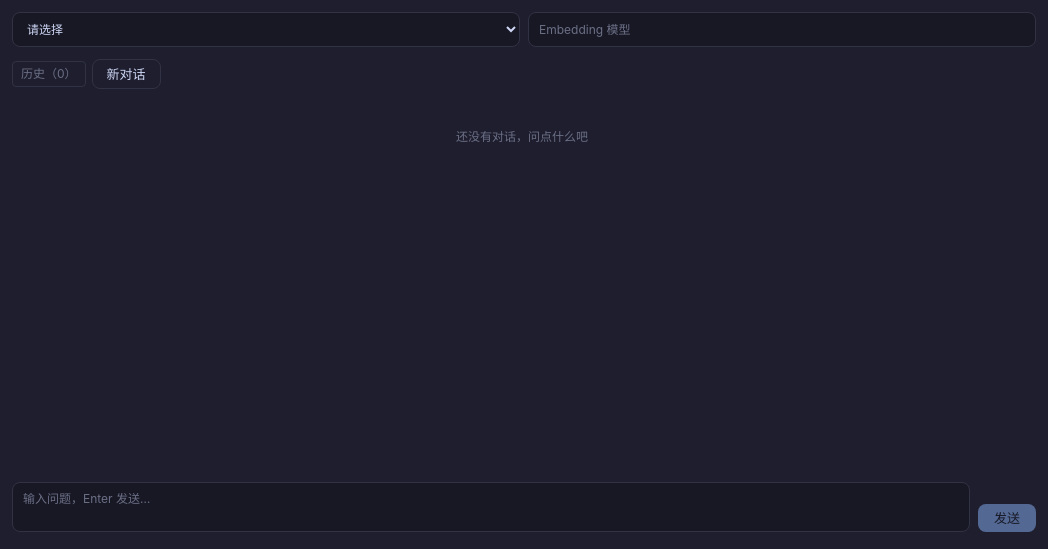
it: §332 A6① 问答屏历史搜索：前一个词那一发的迟到结果不许换掉当前结果 › 敲「甲」再敲「甲乙」⇒「甲」迟到了也不许换掉「甲乙」的清单
Click the button "历史（0）": (49, 74) [12,61,86,87]
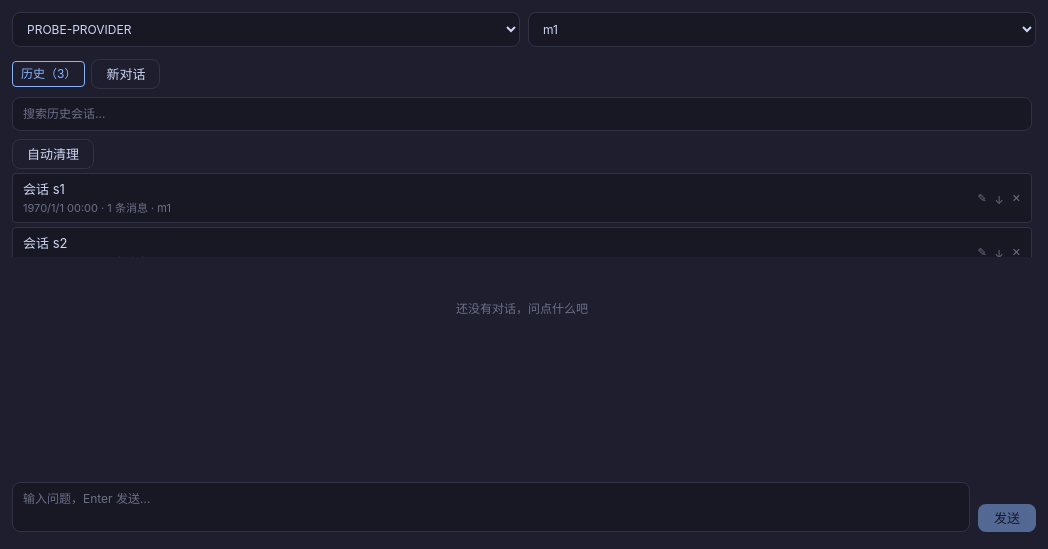
Now the field with placeholder "搜索历史会话…" is shown
In the field with placeholder "搜索历史会话…": (522, 114) [12,97,1032,131], type "甲"
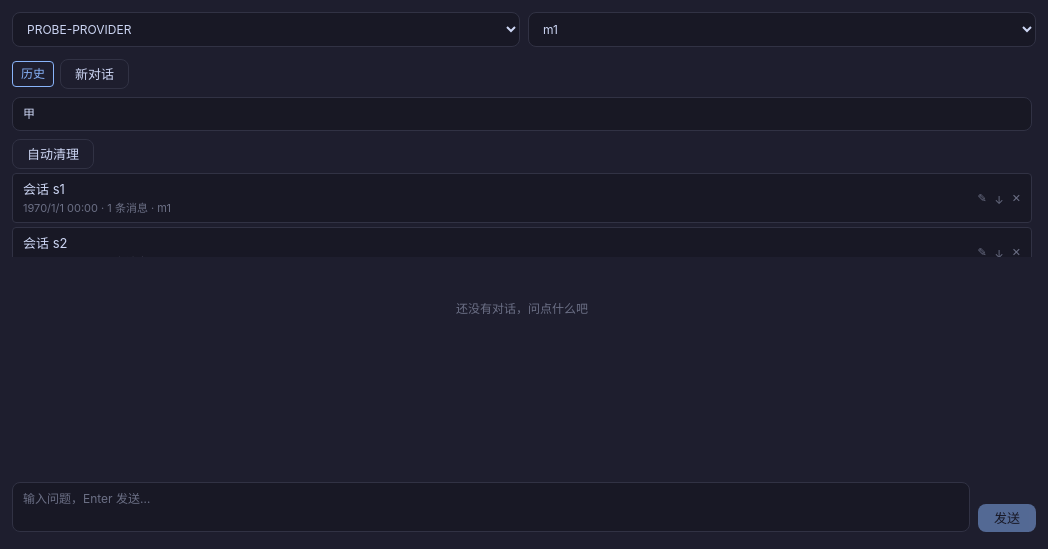
Replace the text in the field with placeholder "搜索历史会话…" with "甲乙": (522, 114) [12,97,1032,131]
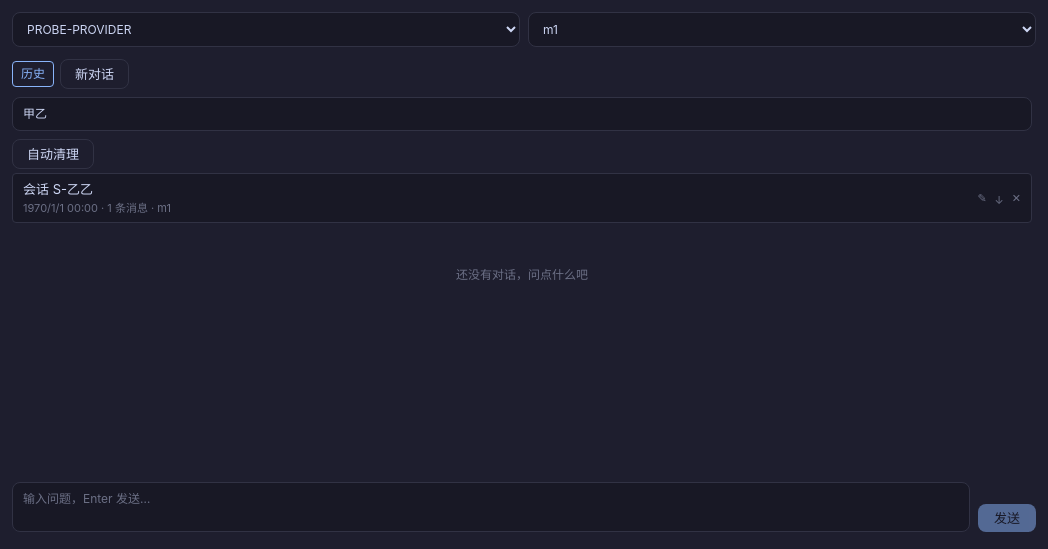
Now the text "会话 S-乙乙" is shown, box [23,181,93,197]
